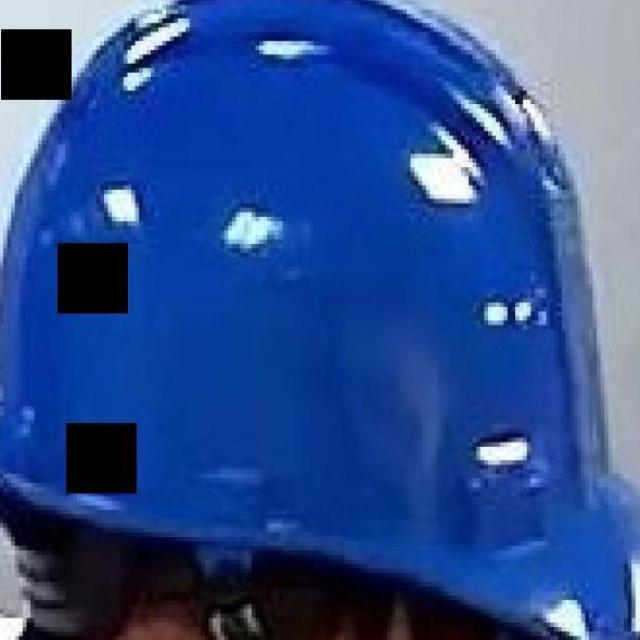blue helmet: (3, 1, 640, 640)
